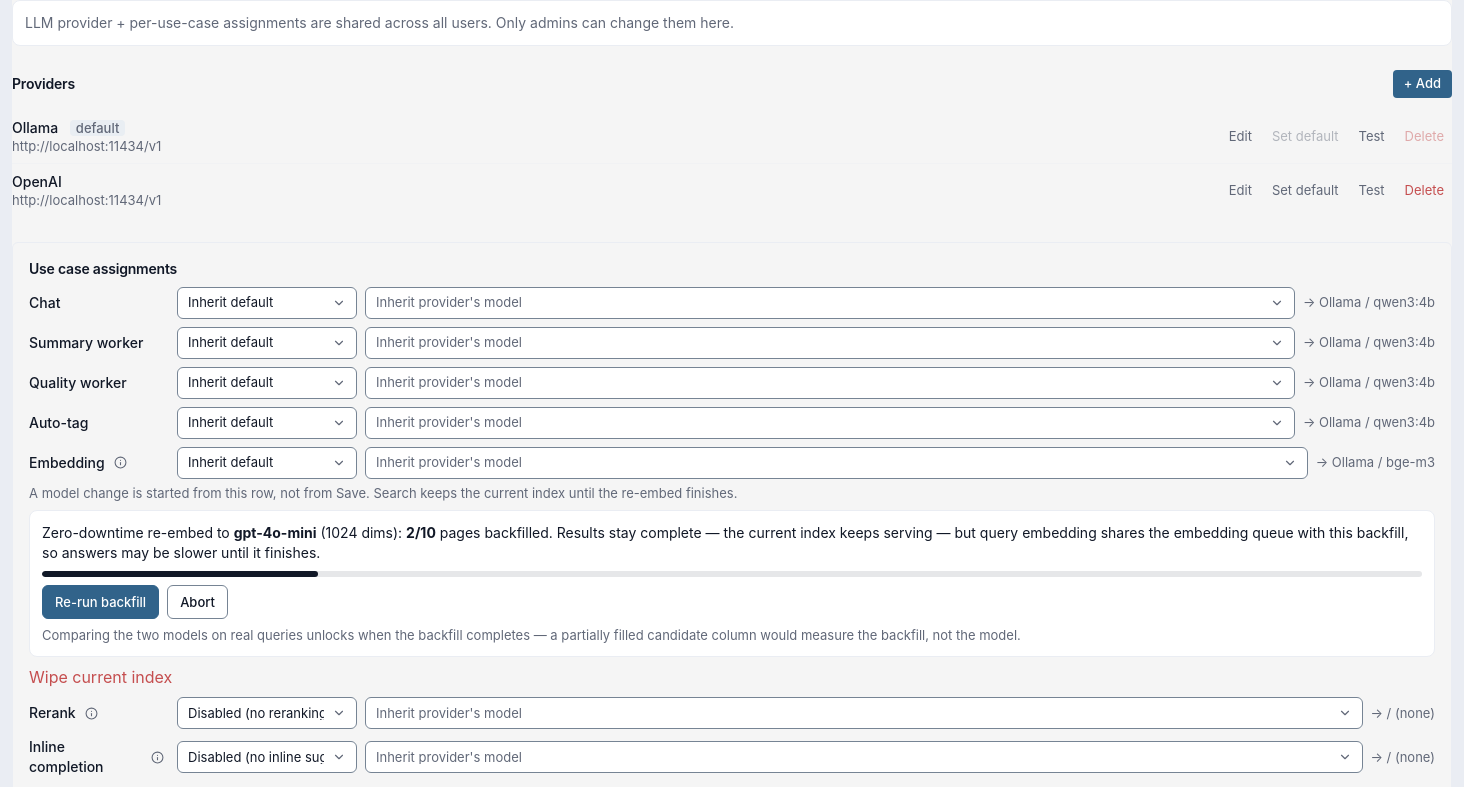
LlmTab › stops offering the destructive re-embed while a shadow migration runs (review r9)
Expected: the heading "Use case assignments" is shown, [29,260,177,277]
Select "OpenAI" in the dropdown with test id "usecase-embedding-provider". click: (267, 463)
box: [177,447,357,479]
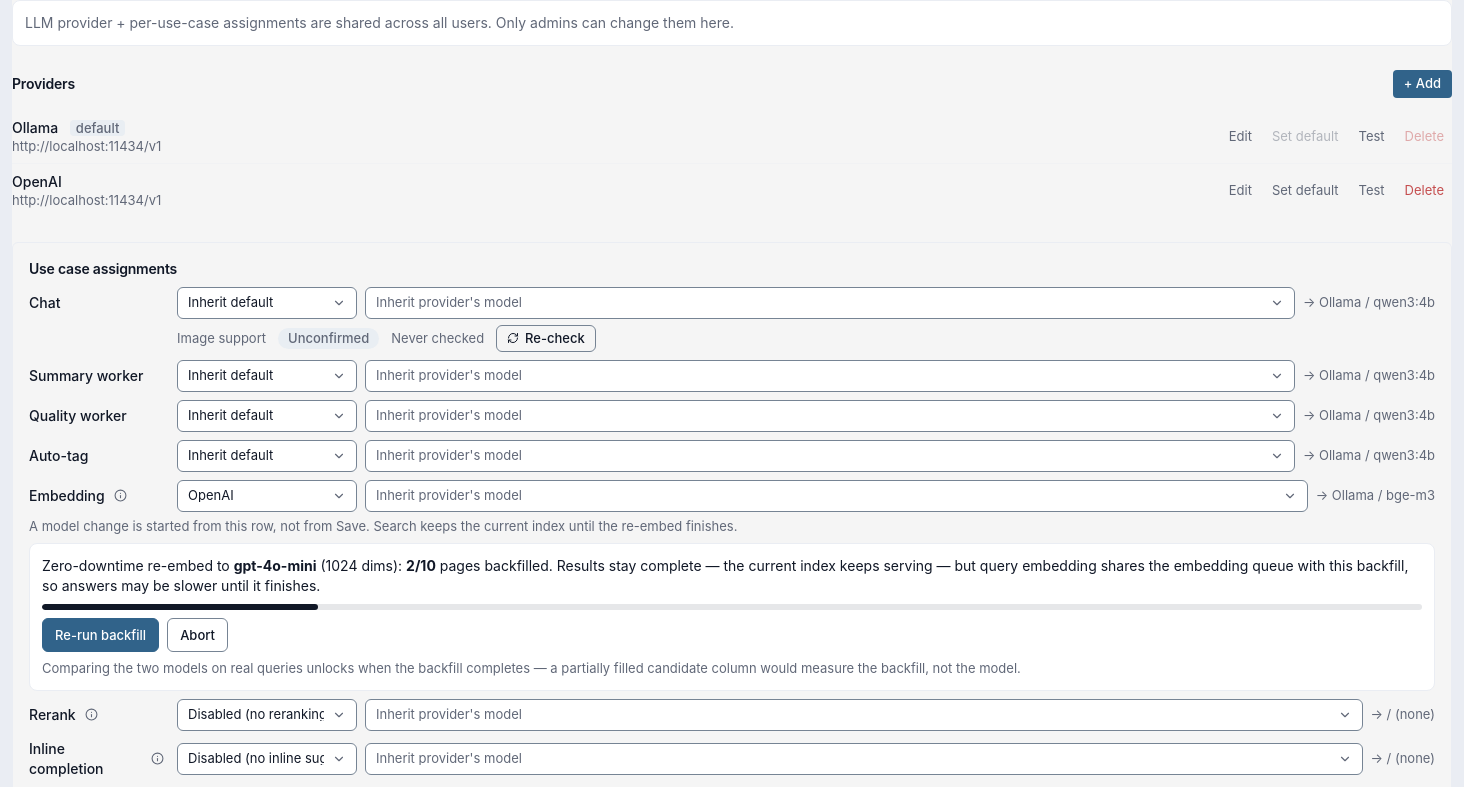
Expected: the text "pages backfilled" is shown, [440,557,549,574]
Expected: the button "Wipe current index" is gone
